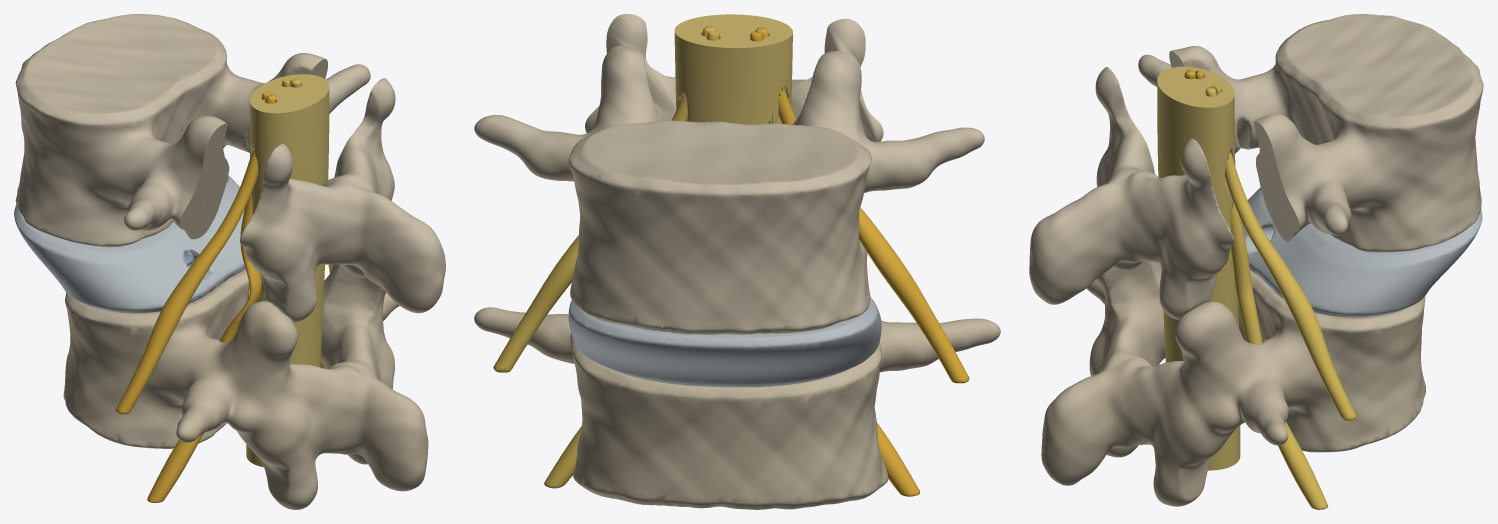
File: spine_listhesis_2.glb
The picture shows the model from 3 angles, left to right: view 1: azimuth 30°, elevation 25°; view 2: azimuth 150°, elevation 25°; view 3: azimuth 270°, elevation 25°; orthographic projection. The views are drawn at different scales.
Visible parts, largest first — view 1: l5_vertebra, l4_vertebra, l4_posterior_arch, annulus_fibrosus, thecal_sac, l4_nerve_root_left, l5_nerve_root_left; view 2: l4_vertebra, l5_vertebra, annulus_fibrosus, thecal_sac, l4_posterior_arch, l4_nerve_root_left, nerve_roots, l5_nerve_root_left; view 3: l5_vertebra, l4_vertebra, l4_posterior_arch, annulus_fibrosus, thecal_sac, nerve_roots.
Part boxes in pixels (<box>): l5_vertebra: <box>63,264,428,509</box>; l4_vertebra: <box>15,14,370,247</box>; l4_posterior_arch: <box>240,78,445,322</box>; annulus_fibrosus: <box>14,175,245,313</box>; thecal_sac: <box>246,74,329,467</box>; l4_nerve_root_left: <box>115,94,276,414</box>; l5_nerve_root_left: <box>147,91,272,502</box>; l4_vertebra: <box>474,45,984,334</box>; l5_vertebra: <box>474,240,1000,509</box>; annulus_fibrosus: <box>568,297,881,387</box>; thecal_sac: <box>674,14,792,124</box>; l4_posterior_arch: <box>585,14,883,141</box>; l4_nerve_root_left: <box>755,27,969,383</box>; nerve_roots: <box>493,26,719,488</box>; l5_nerve_root_left: <box>750,31,919,496</box>; l5_vertebra: <box>1041,261,1425,506</box>; l4_vertebra: <box>1138,14,1483,252</box>; l4_posterior_arch: <box>1029,67,1233,319</box>; annulus_fibrosus: <box>1241,187,1482,317</box>; thecal_sac: <box>1157,66,1240,470</box>; nerve_roots: <box>1205,84,1356,509</box>.
Size of the model in its own units: 8 by 7.92 by 8.37.
